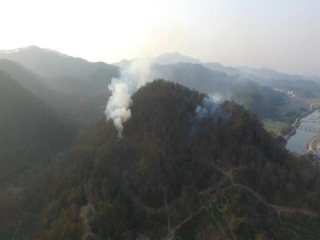smoke: (103, 57, 154, 140), (192, 89, 232, 132)
